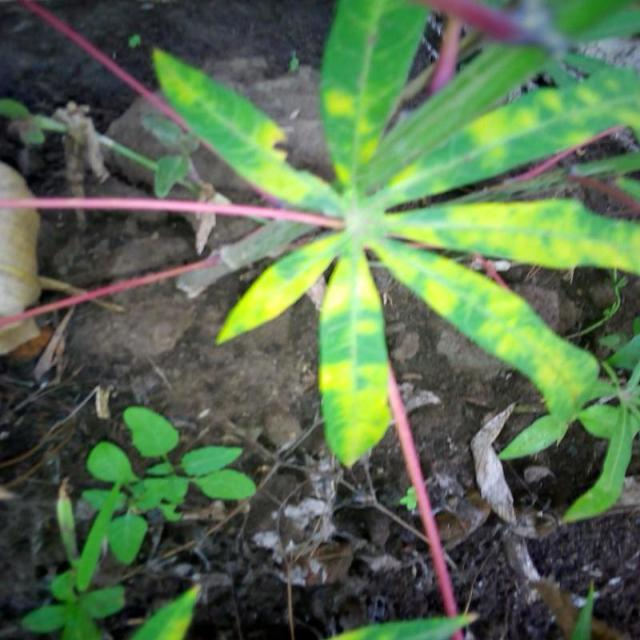cassava leaf: (147, 0, 640, 471), (318, 250, 392, 468)
